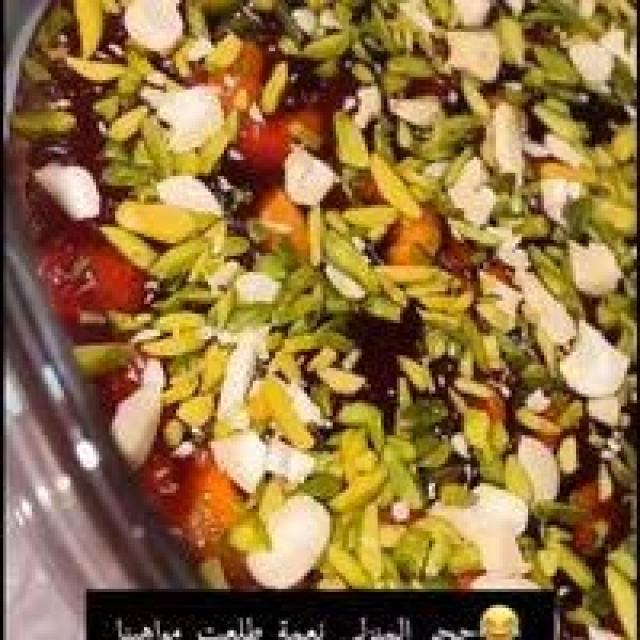Halwa: (0, 2, 640, 586)
